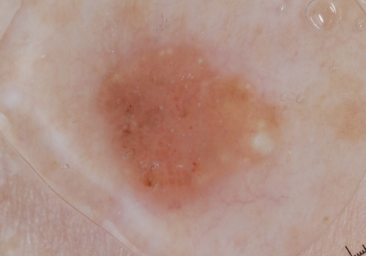seborrheic keratosis: (92, 41, 287, 218)
